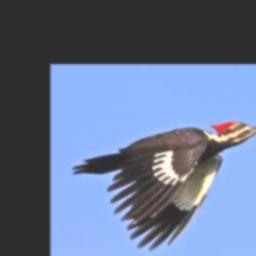Woodpecker: (71, 120, 256, 250)
